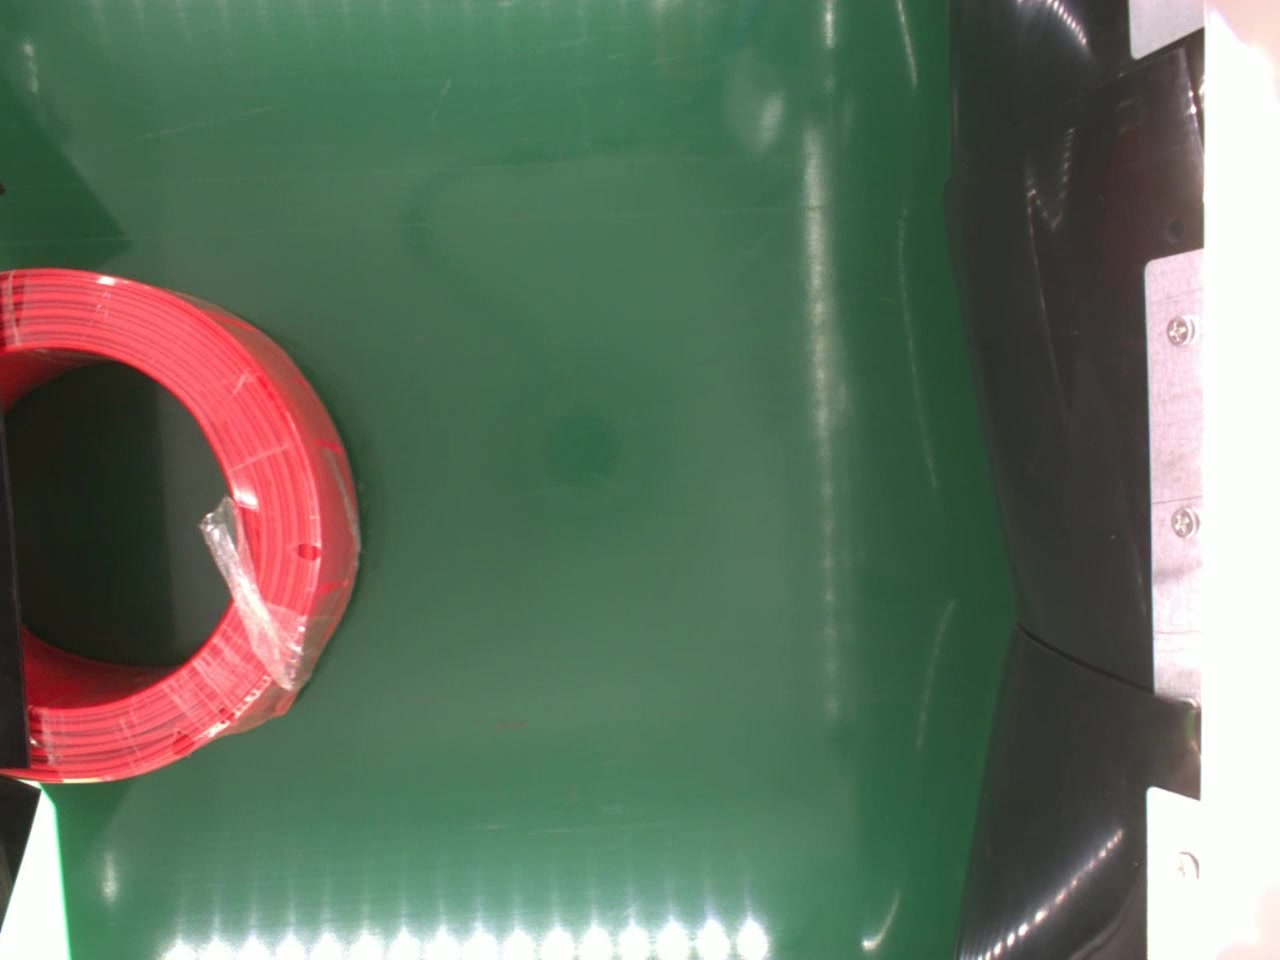red: (0, 261, 365, 786)
